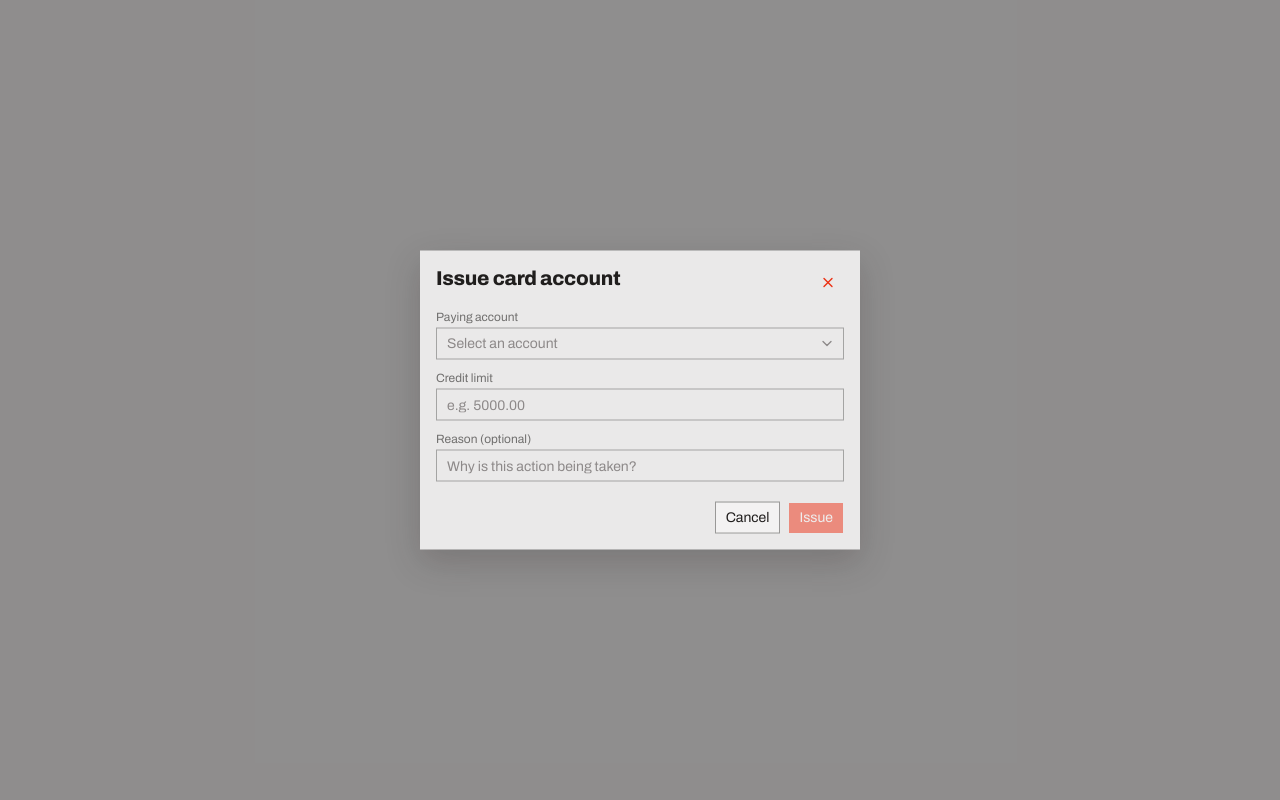
IssueCardAccountDialog › keeps Issue disabled until the required fields are filled
Check: the button "Issue" is disabled, box [788,502,844,534]
Check: the text "Select an account" is shown, box [447,334,558,354]
Click the dropdown named "paying account": (502,343) [436,328,844,360]
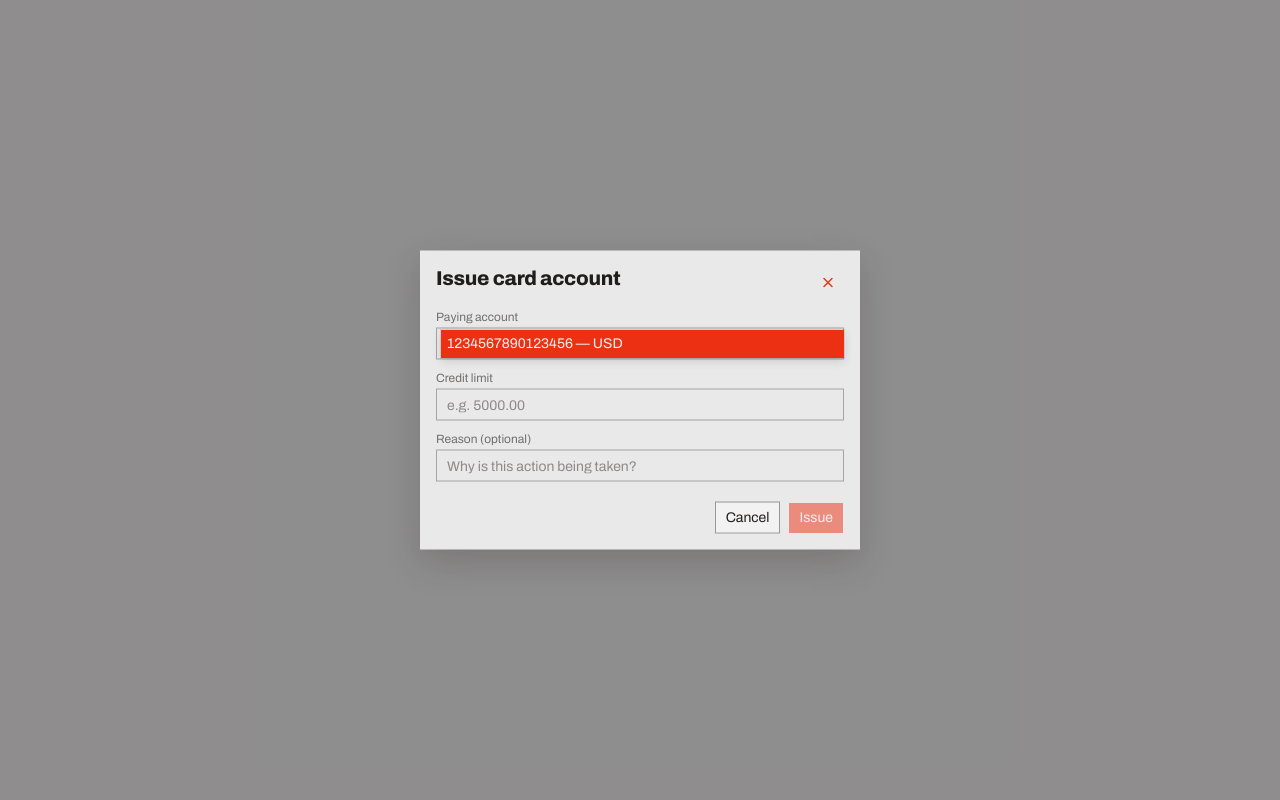
Click the option "1234567890123456 — USD": (535,343) [441,330,844,358]
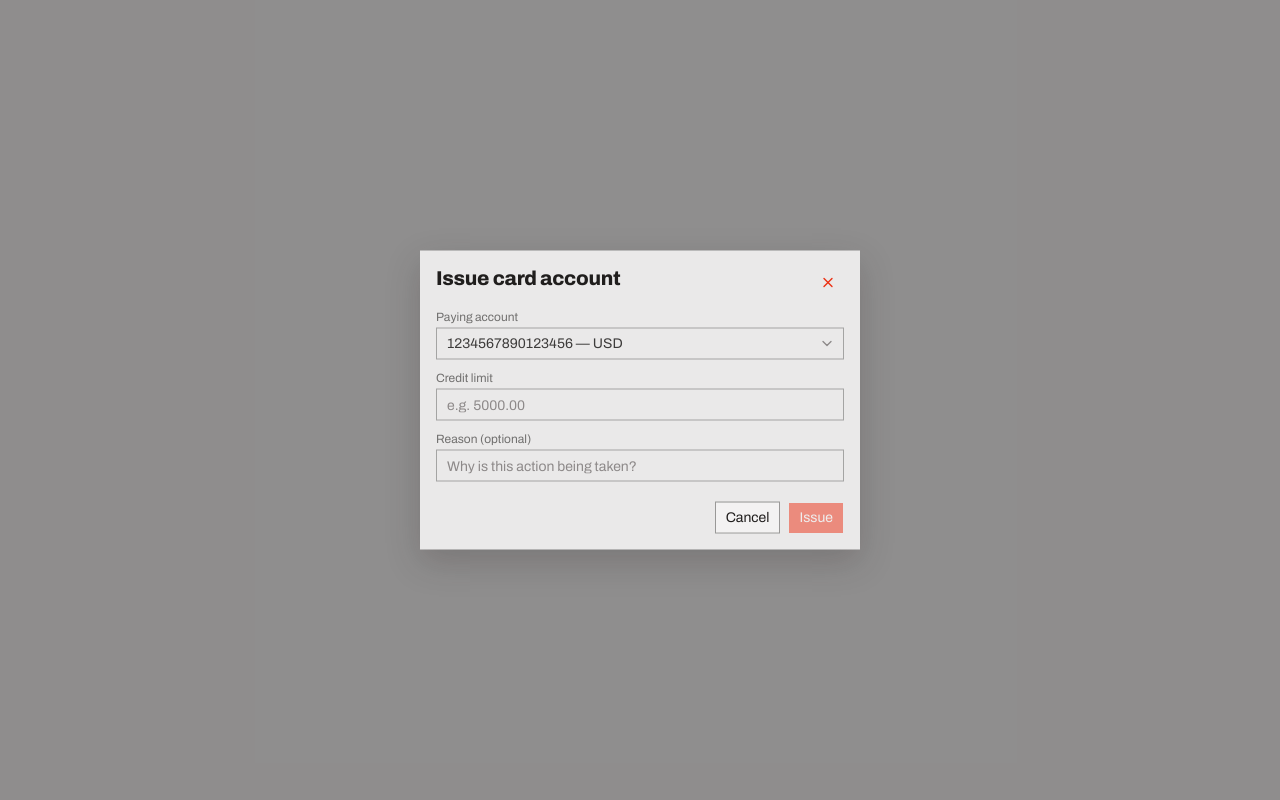
In the field labelled "Credit limit": (640,404) [436,388,844,420], type "1000.00"
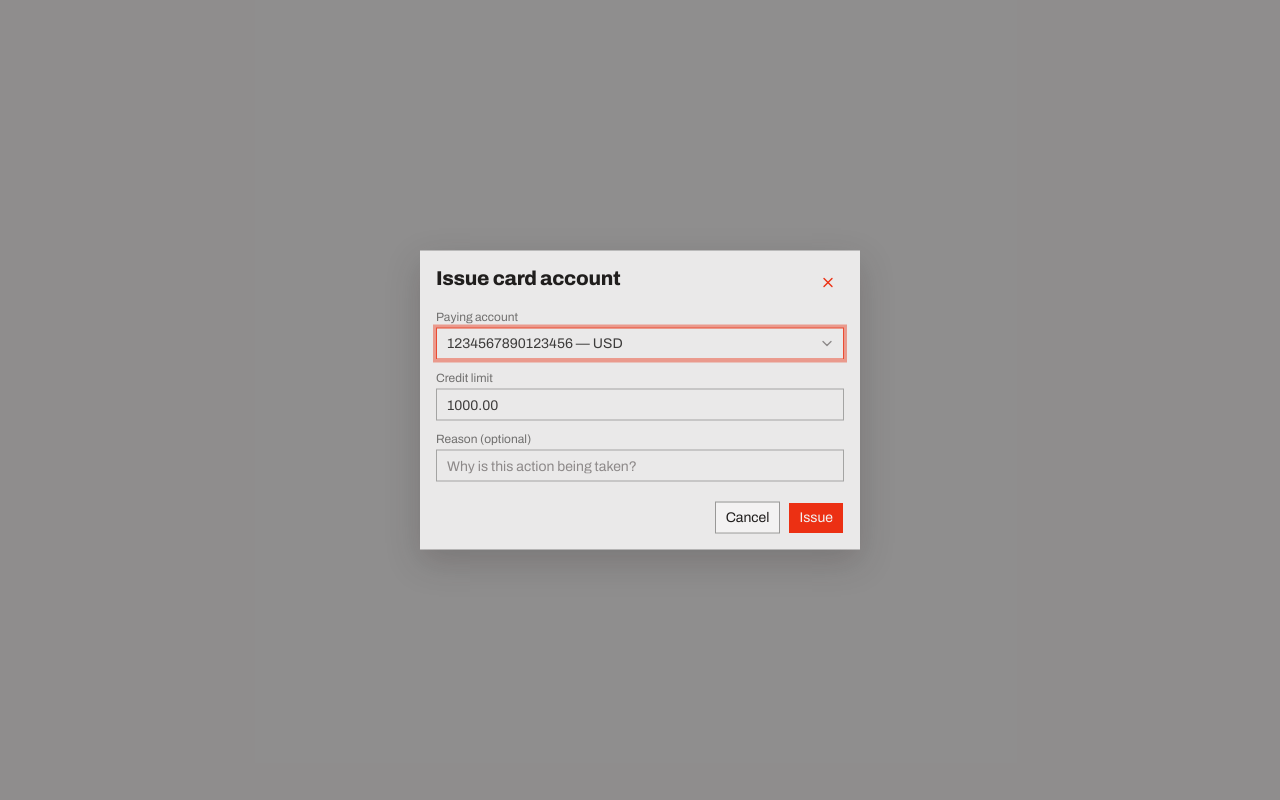
Check: the button "Issue" is enabled, box [788,502,844,534]
